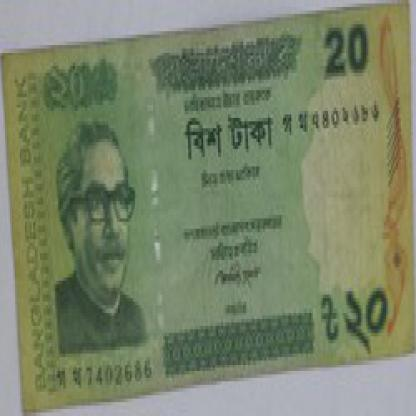Twenty: (180, 111, 281, 166), (323, 284, 388, 350), (45, 59, 121, 114), (322, 14, 374, 93)
